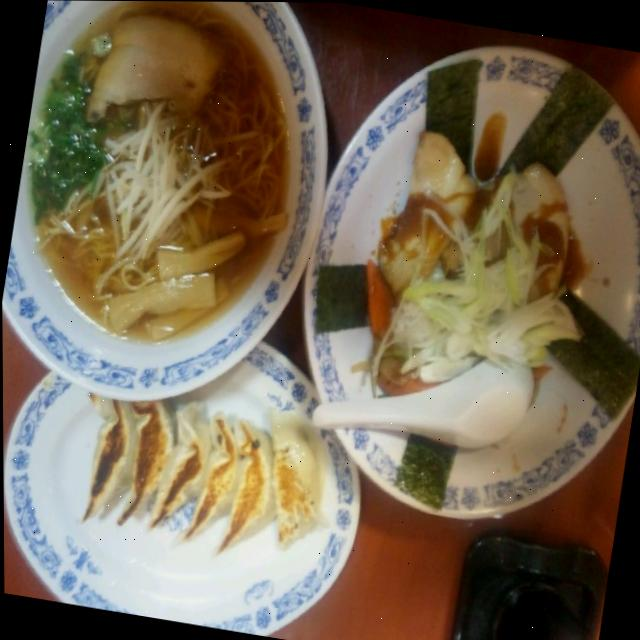带馅早点: (2, 308, 367, 640)
面条主食: (0, 0, 339, 430)
